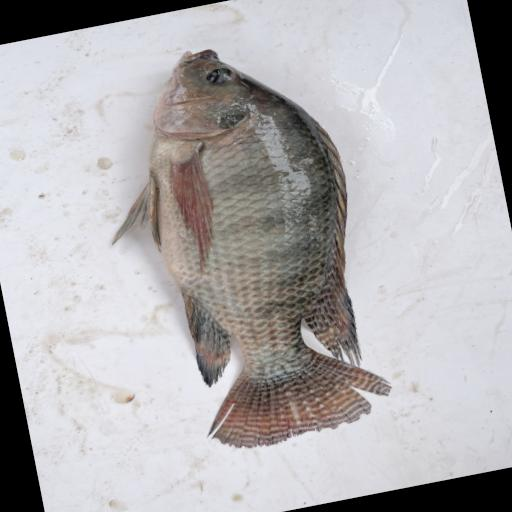Tilapia: (79, 25, 399, 468)
